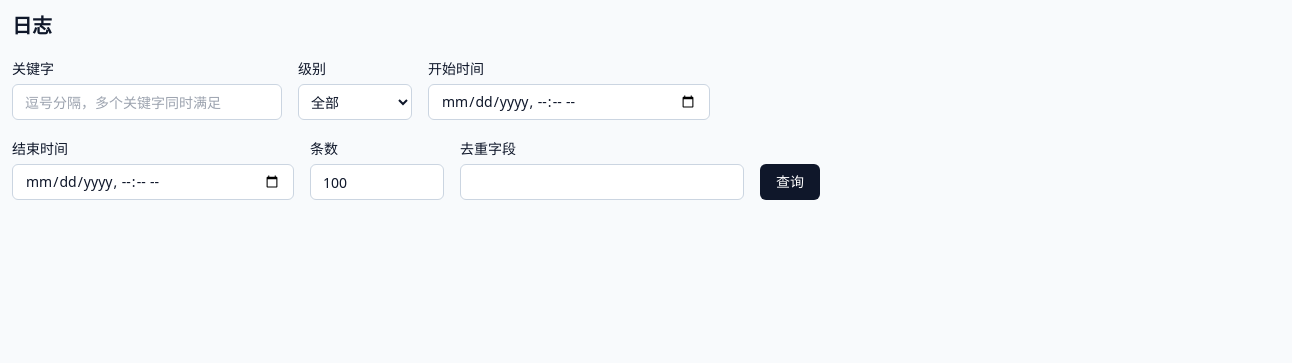
shows an empty-result message
Click the button "查询": (790, 182) [760,164,820,200]
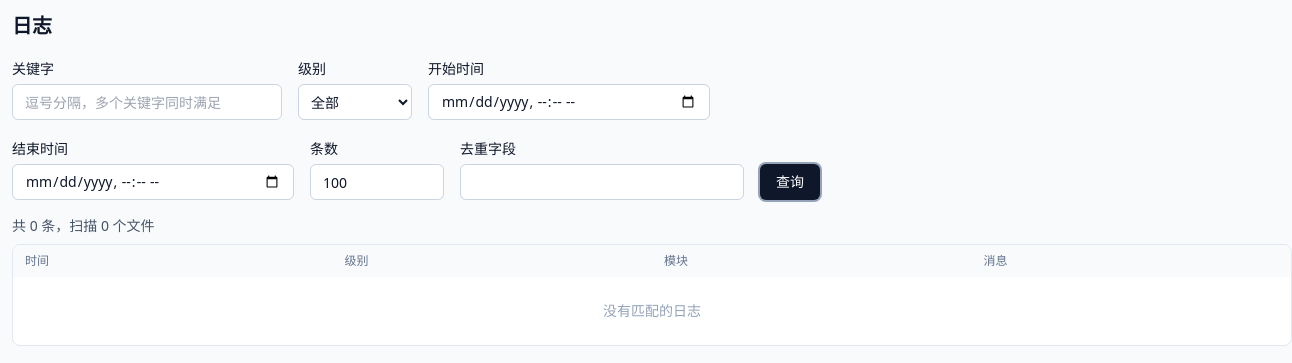
expect the text "没有匹配的日志" is shown: met, box [13,277,1291,345]
